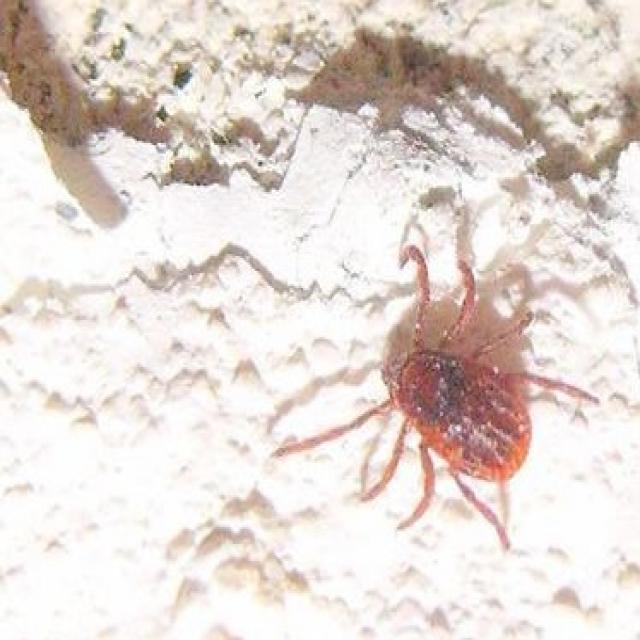Rhipicephalus Sanguineus-F: (270, 245, 601, 550)
